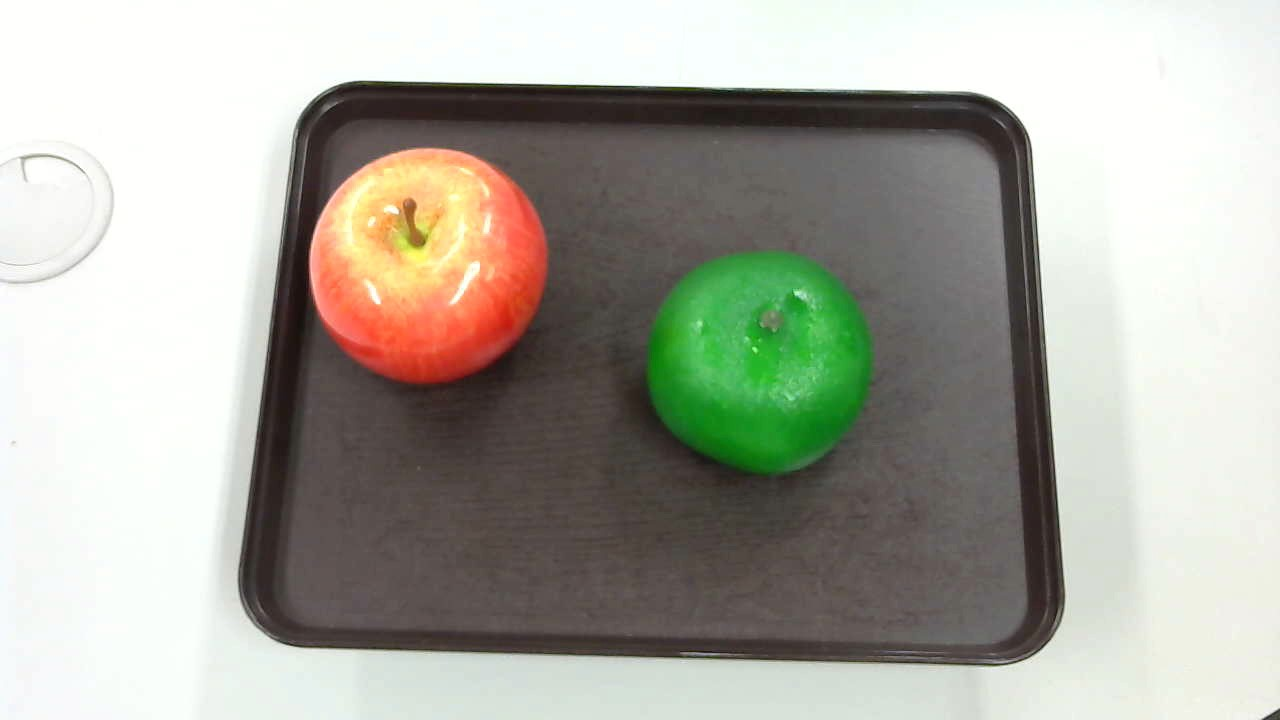green orange: (647, 251, 873, 479)
red apple: (300, 146, 547, 381)
